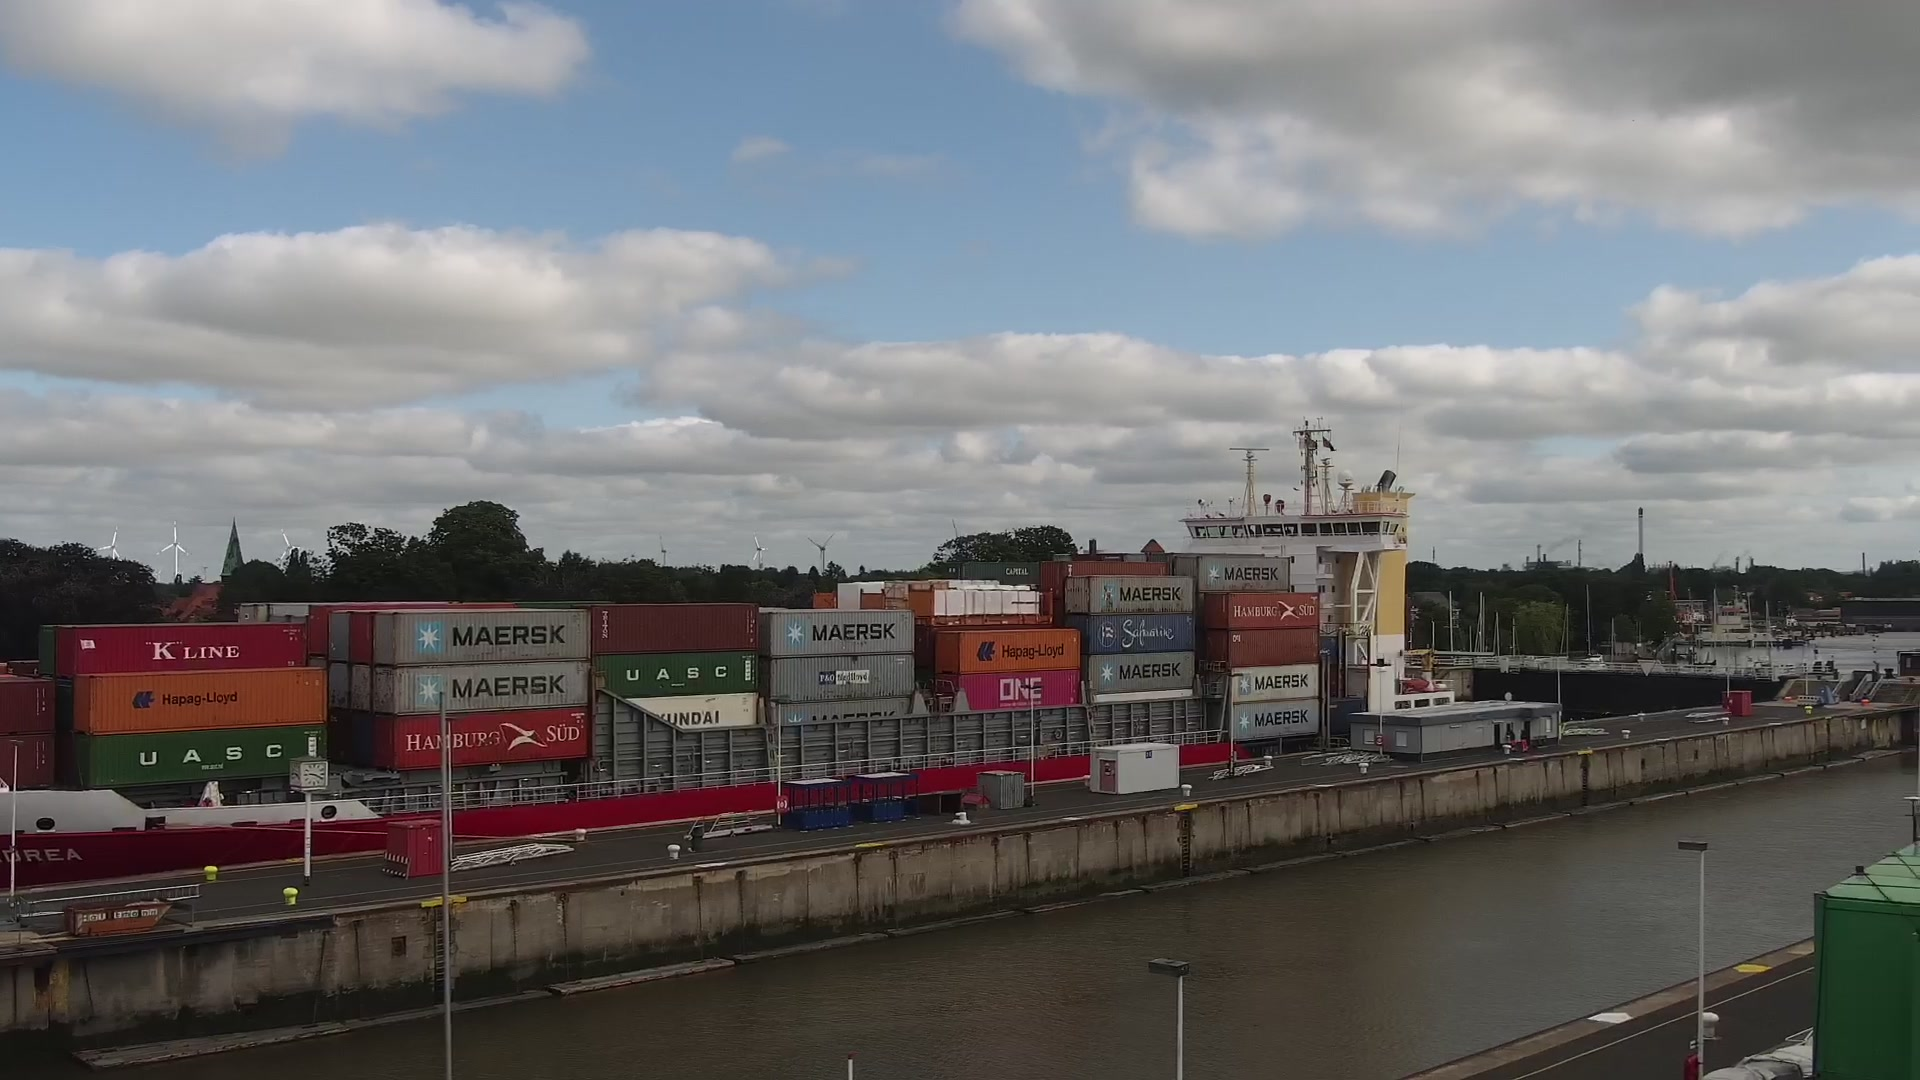human: (1509, 729, 1515, 752), (1520, 731, 1527, 751)
sea: (1, 417, 1453, 889)
